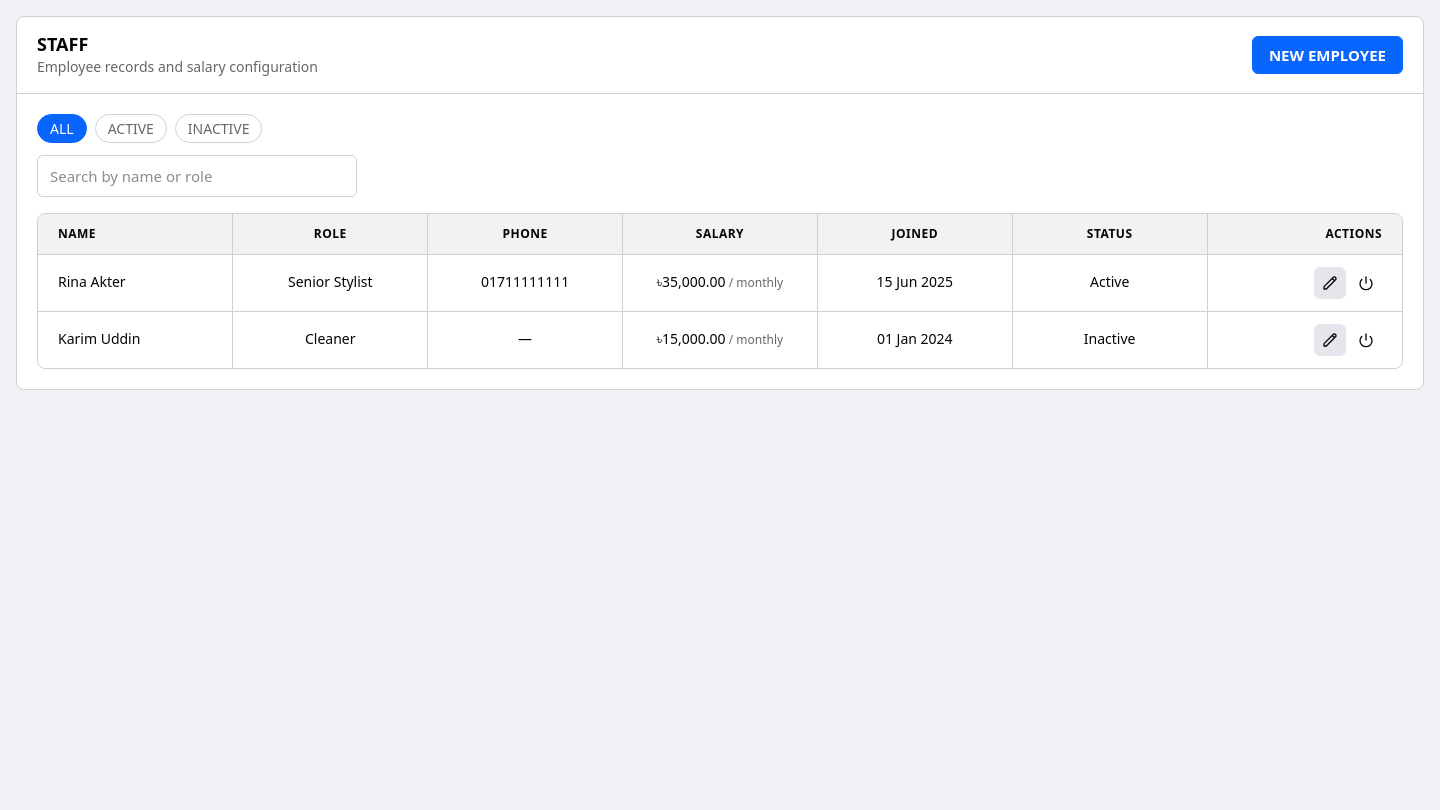
it: StaffPage › opens the edit modal with prefilled values
The width and height of the screenshot is (1440, 810).
Expected: the text "Rina Akter" is shown, [58, 272, 126, 291]
What coordinates should you click on to do the following:
click the button named "edit" in the row of "Rina Akter"
I would click on:
 (1330, 283)
Its box is [1314, 267, 1346, 299].
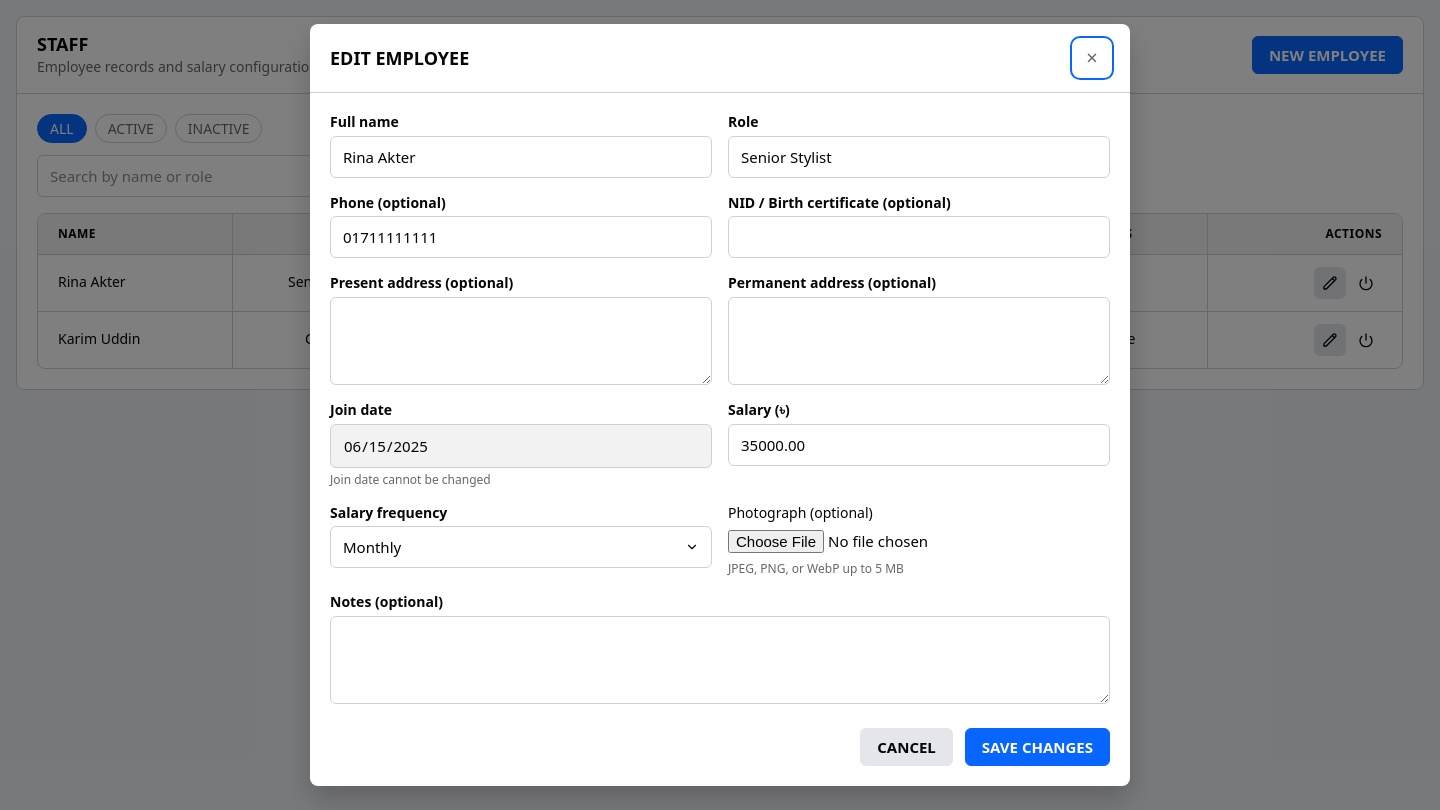
Result: the field showing "Rina Akter" is shown at [330, 136, 712, 178]
Result: the field showing "Senior Stylist" is shown at [728, 136, 1110, 178]
